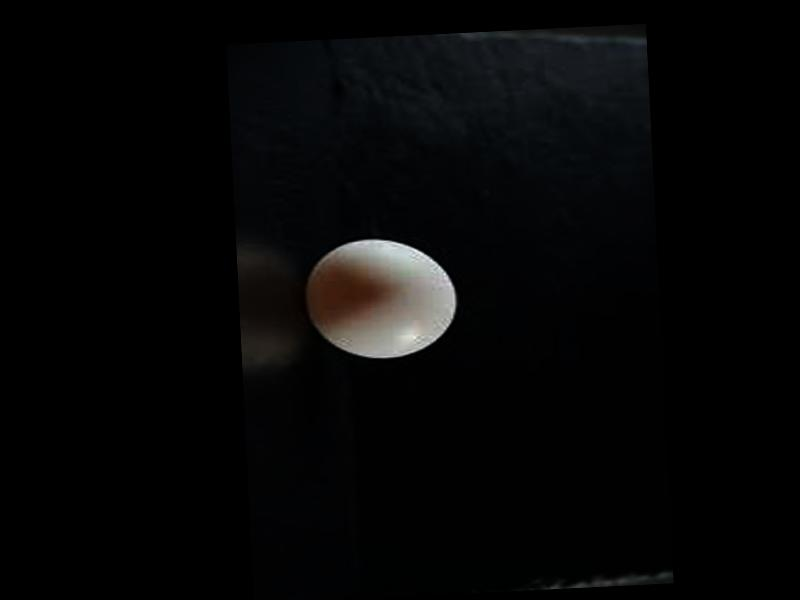Eggs: (302, 234, 463, 361)
